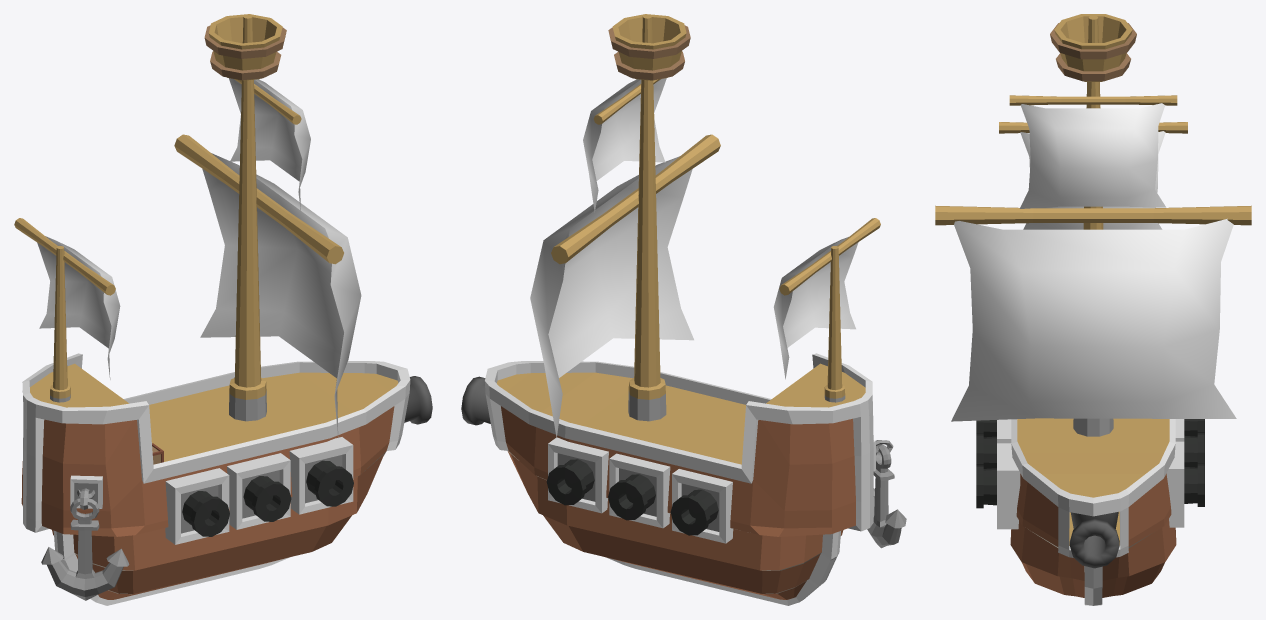
The model's file is Simple Pirate Ship.fbx.
3 renders of one model, left to right at view 1: azimuth 30°, elevation 25°; view 2: azimuth 150°, elevation 25°; view 3: azimuth 270°, elevation 25°, orthographic. The views are drawn at different scales.
Parts seen in each view (by area): view 1: Ship; view 2: Ship; view 3: Ship.
Part boxes in pixels (x1=…): Ship: x1=14, y1=14, x2=432, y2=605; Ship: x1=461, y1=14, x2=906, y2=605; Ship: x1=935, y1=14, x2=1251, y2=605.
Bounding box in the file's own units: 773 × 1007 × 504.
